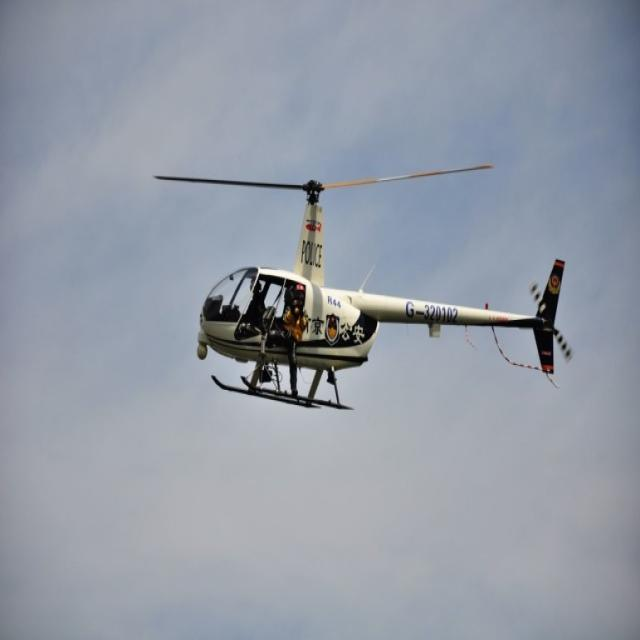CIV_HELO: (196, 176, 566, 418)
